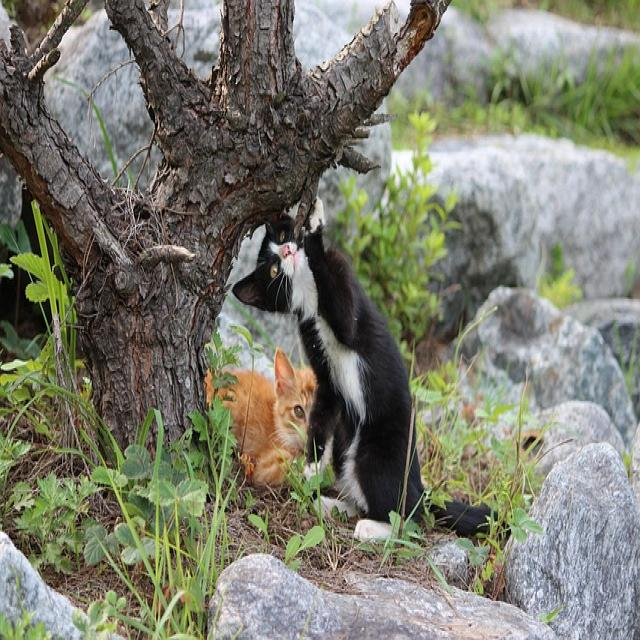cat: (221, 200, 521, 561), (198, 335, 321, 492)
